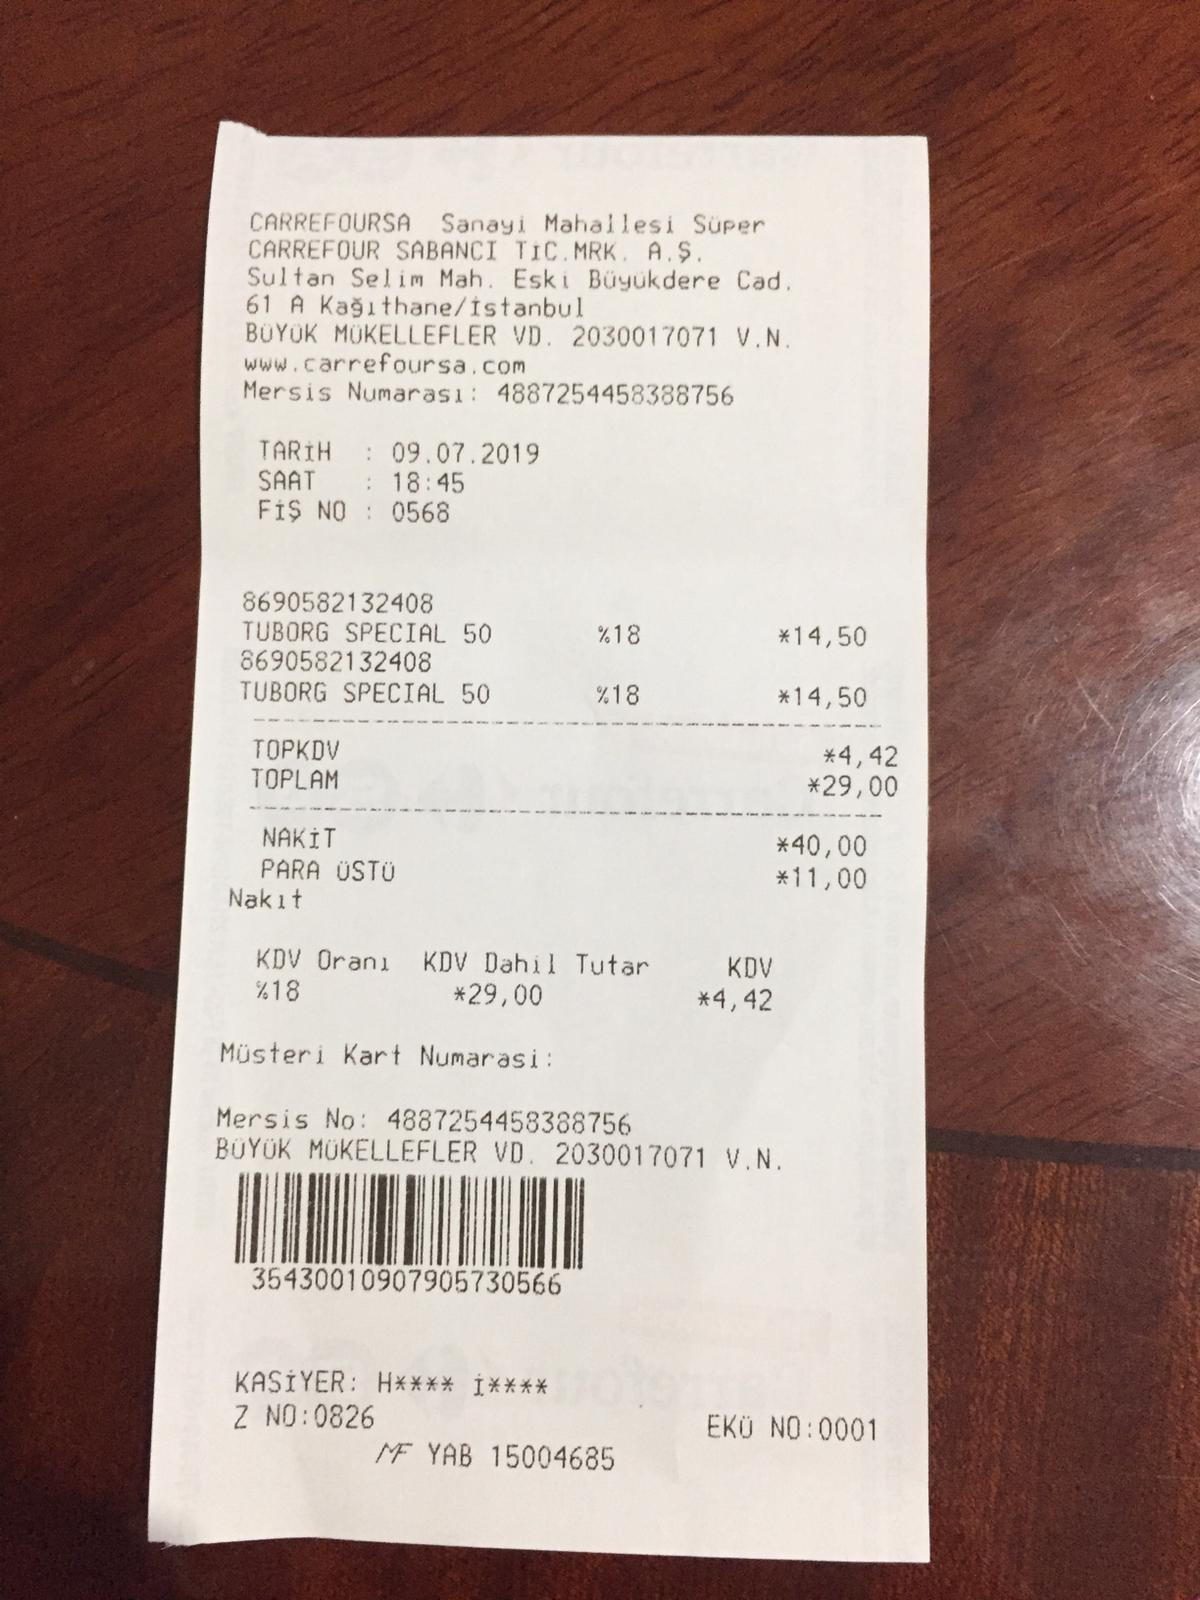total: (247, 762, 908, 806)
